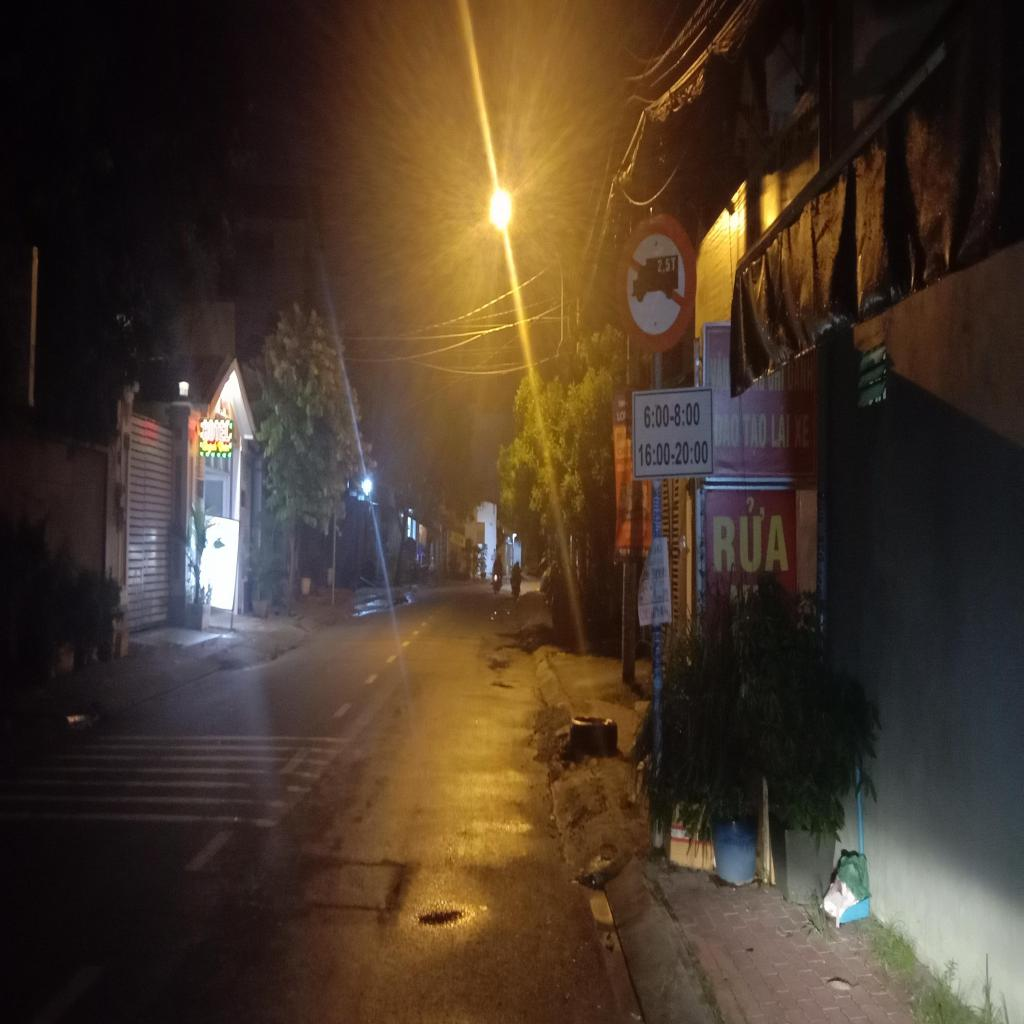cam_o_to_tai_trong_luong_qua_2-5t: (615, 212, 699, 358)
khac: (633, 391, 715, 479)
